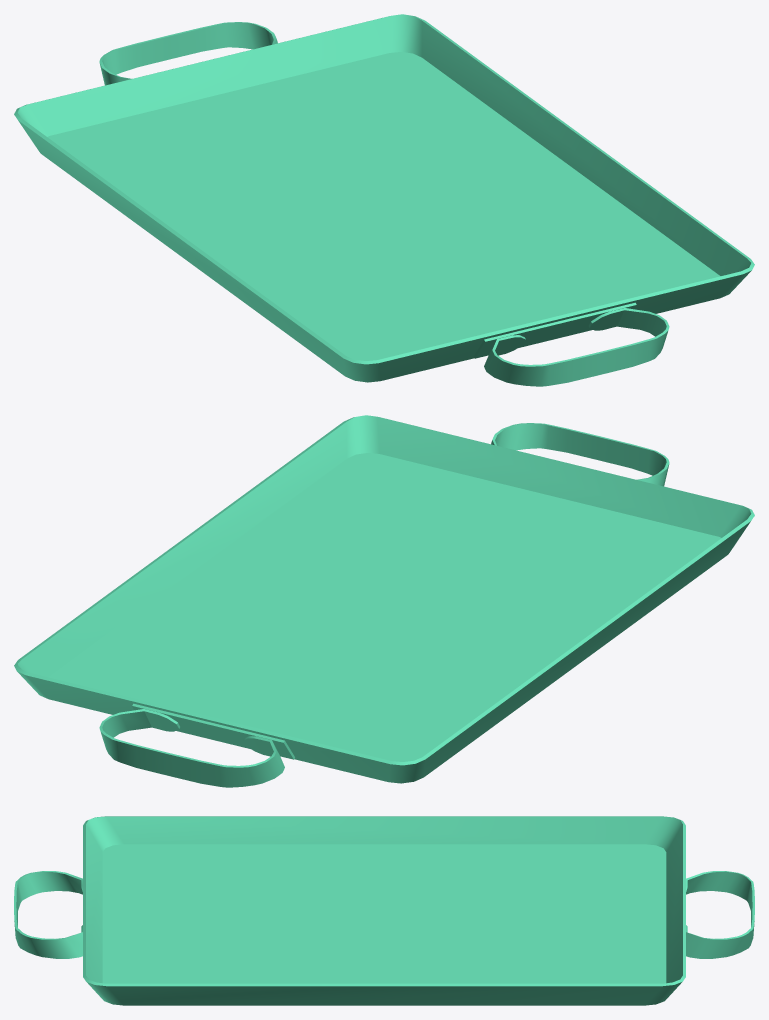
Rendered from plate4.fbx.
3 views of the same model, one above another, from view 1: azimuth 30°, elevation 25°; view 2: azimuth 150°, elevation 25°; view 3: azimuth 270°, elevation 25° (orthographic). The views are drawn at different scales.
Visible parts, largest first — view 1: Plane_Plate_0; view 2: Plane_Plate_0; view 3: Plane_Plate_0.
Part boxes in pixels (x1,y1,x2,y2): Plane_Plate_0: (14, 14, 754, 386); Plane_Plate_0: (14, 415, 754, 787); Plane_Plate_0: (14, 816, 754, 1005).
Size of the model in its own units: 108 by 7.76 by 199.
